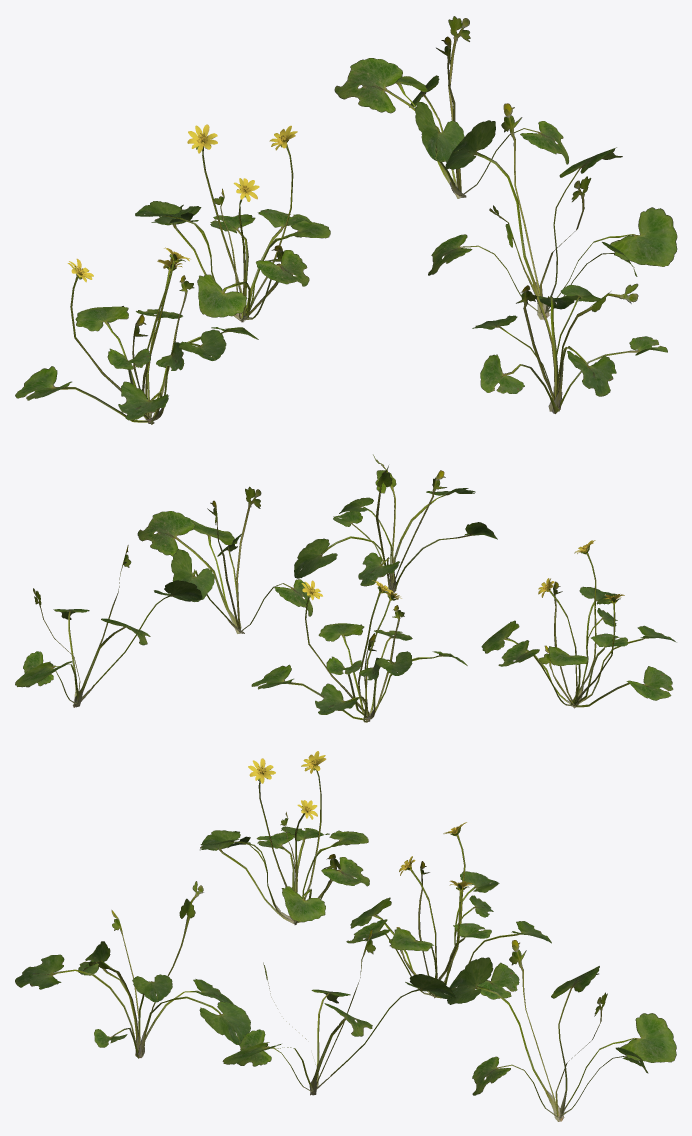
The model's file is celandine_01_patch.fbx.
3 views of the same model, one above another, from view 1: azimuth 30°, elevation 25°; view 2: azimuth 150°, elevation 25°; view 3: azimuth 270°, elevation 25° (orthographic). The views are drawn at different scales.
Parts seen in each view (by area): view 1: celandine_01_patch; view 2: celandine_01_patch; view 3: celandine_01_patch.
Part boxes in pixels (left/top/right/bottom): celandine_01_patch: left=15, top=16, right=677, bottom=424; celandine_01_patch: left=15, top=454, right=676, bottom=722; celandine_01_patch: left=15, top=751, right=676, bottom=1121.
Size of the model in its own units: 0.7866 by 0.22 by 0.8.
Materials: 1 (1 with a texture image).
